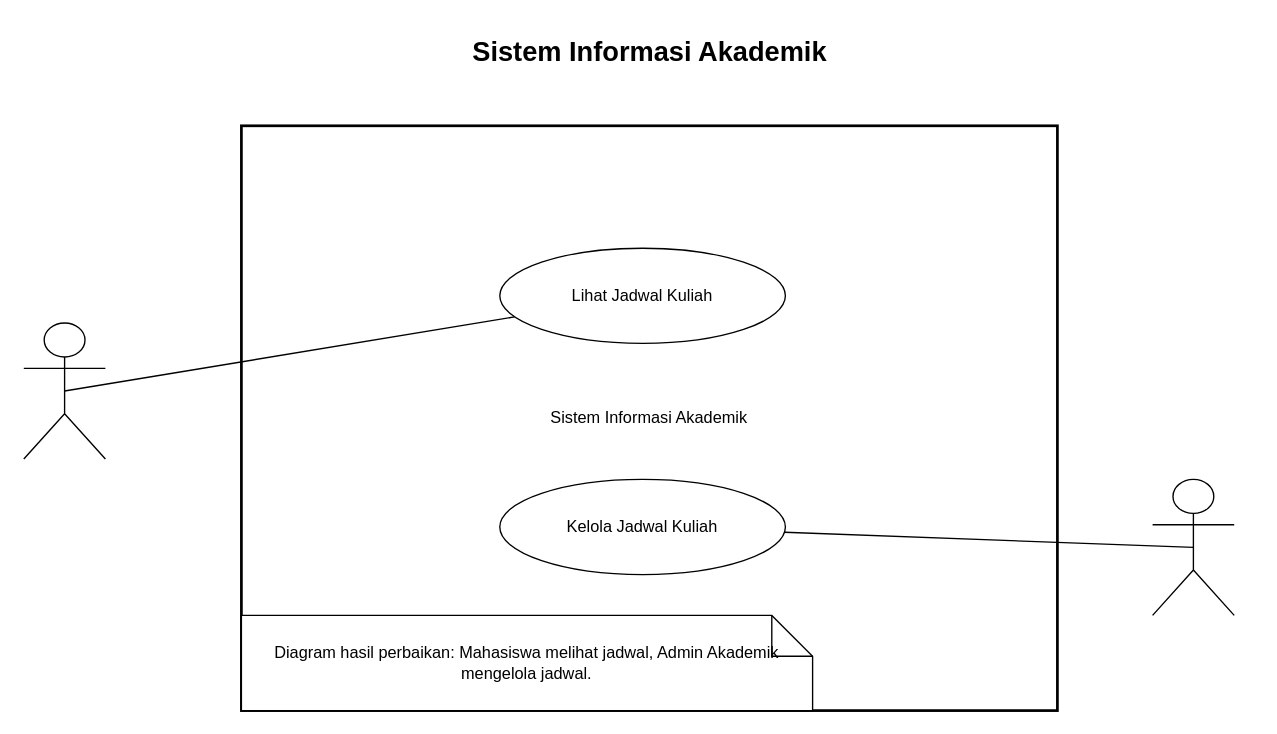
Image size: 1277x734. Some labels were removed from this diagram. The centre of each missing label's shape, as x and y in pixels:
Admin Akademik: the point at 1192,546
Mahasiswa: the point at 63,390
